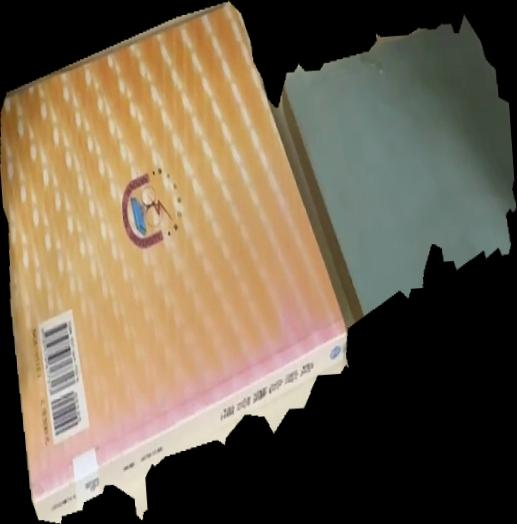flat: (1, 1, 517, 524)
